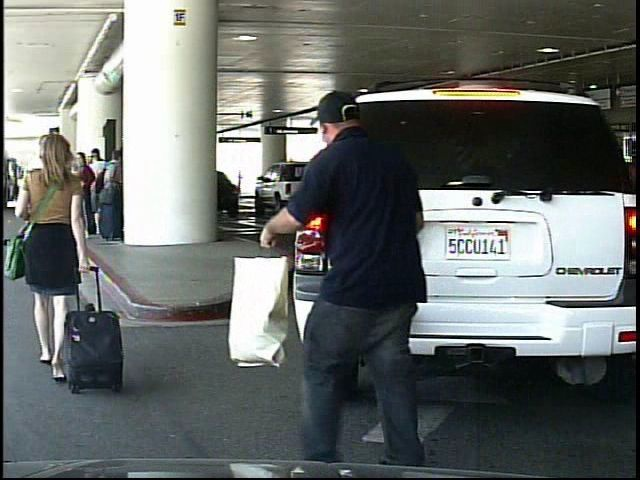person: (287, 84, 451, 467), (5, 124, 102, 403)
